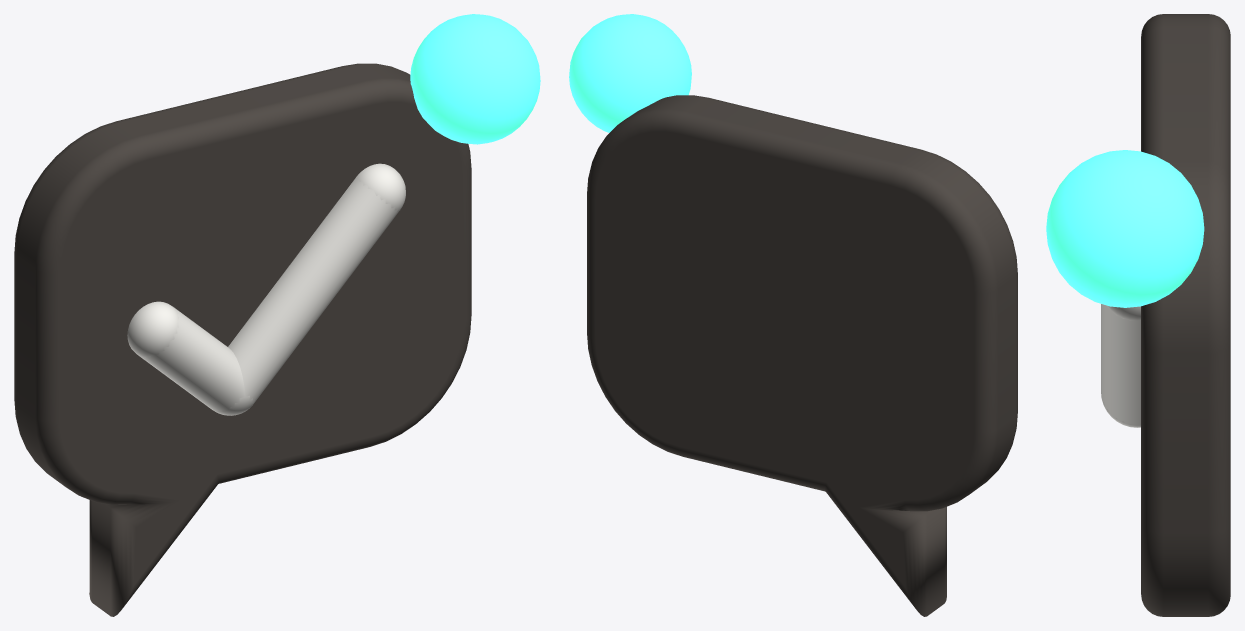
File: resolva-model.glb
3 renders of one model, left to right at view 1: azimuth 30°, elevation 25°; view 2: azimuth 150°, elevation 25°; view 3: azimuth 270°, elevation 25°, orthographic. The views are drawn at different scales.
Parts seen in each view (by area): view 1: Bubble, Check, AISpark; view 2: Bubble, AISpark; view 3: Bubble, AISpark, Check.
Boxes of the visible parts, x1,y1,x2,y2 form: Bubble: [14, 63, 471, 616]; Check: [127, 163, 405, 415]; AISpark: [410, 14, 540, 144]; Bubble: [587, 95, 1017, 616]; AISpark: [569, 14, 691, 132]; Bubble: [1141, 14, 1230, 616]; AISpark: [1046, 150, 1204, 307]; Check: [1101, 304, 1140, 427].
Bounding box in the file's own units: 2.55 × 2.65 × 0.7.
